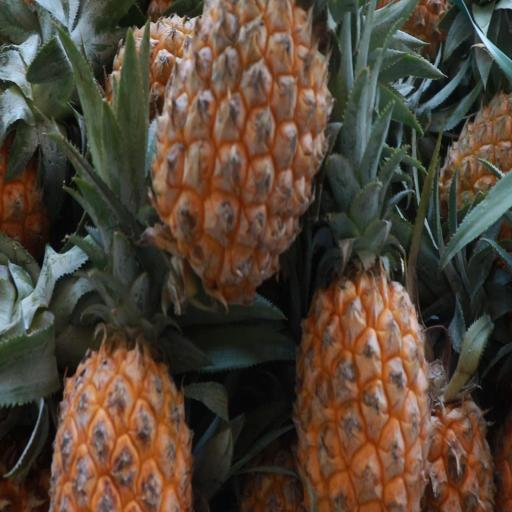Pineapple - v8 v1: (146, 1, 339, 311), (288, 151, 434, 512), (48, 275, 198, 512), (416, 336, 499, 512)
